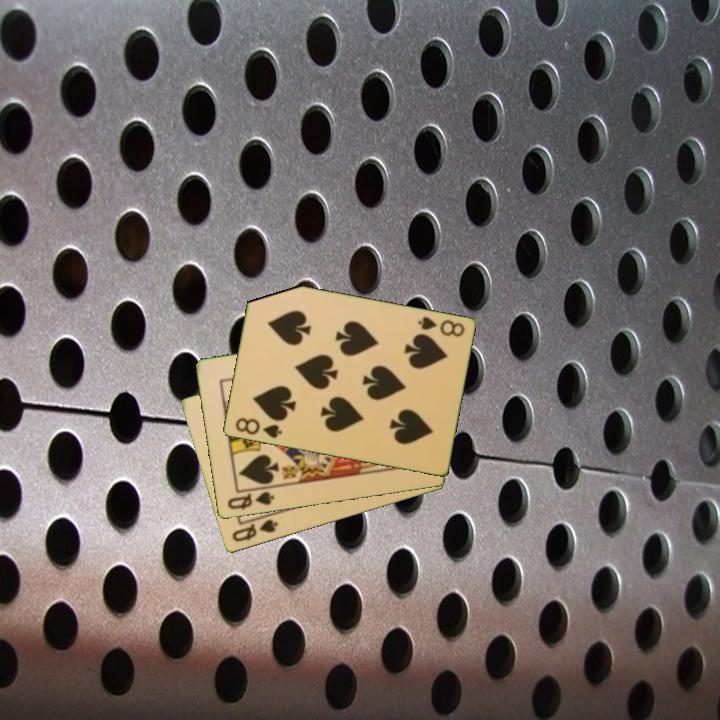8s: (232, 414, 285, 441), (414, 313, 467, 340)
Qs: (228, 516, 280, 545), (223, 488, 277, 513)
